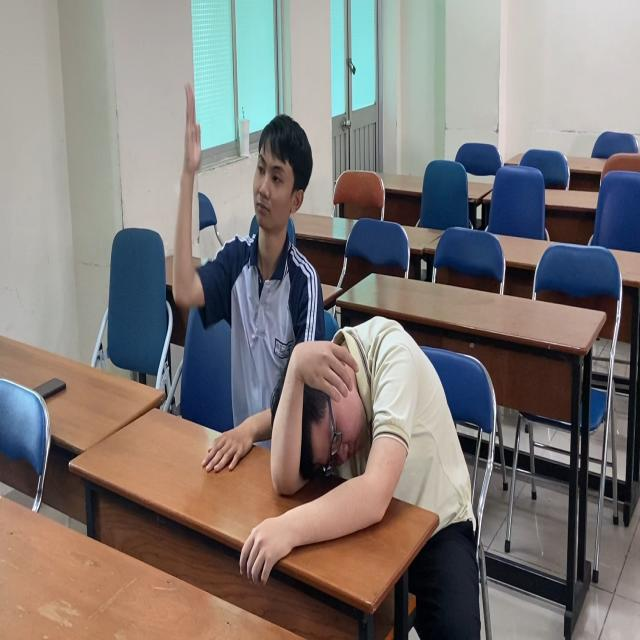raise_hand: (169, 82, 330, 415)
sleep: (255, 324, 465, 534)
